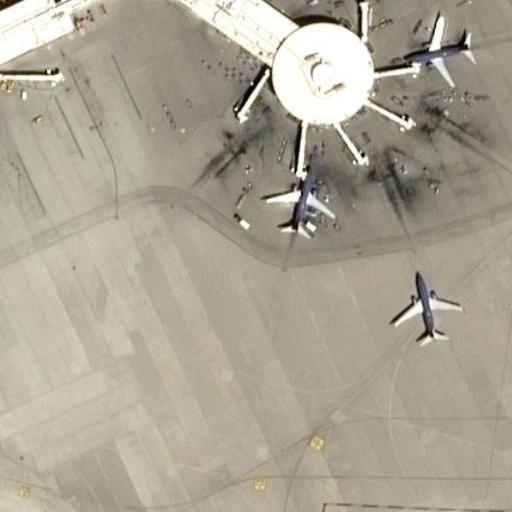Aircraft: (385, 268, 462, 348), (258, 162, 335, 239), (403, 11, 474, 90)
